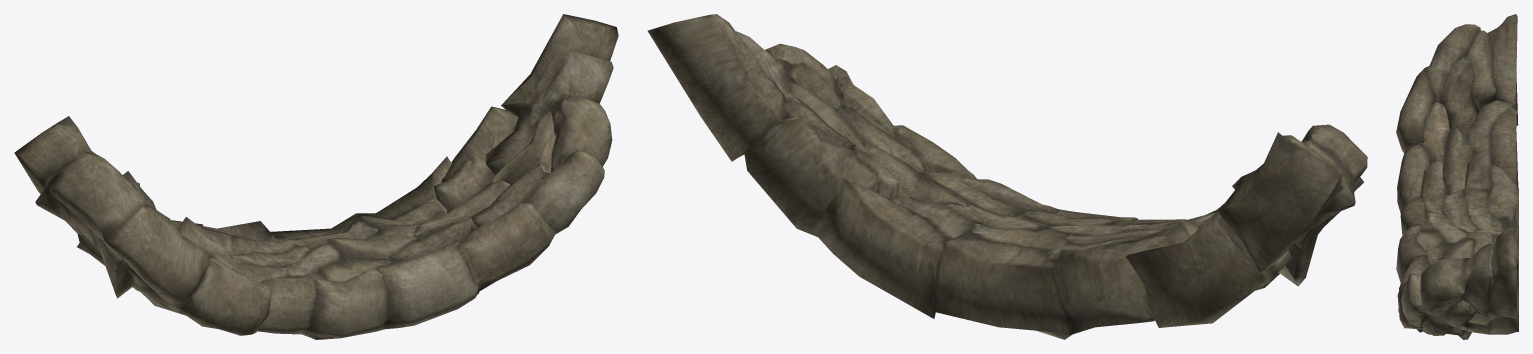
The model's file is hill400_sandbag_curvedsection.glb.
3 renders of one model, left to right at view 1: azimuth 30°, elevation 25°; view 2: azimuth 150°, elevation 25°; view 3: azimuth 270°, elevation 25°, orthographic. The views are drawn at different scales.
Size of the model in its own units: 154 by 59 by 33.53.
1 material, 1 textured.
